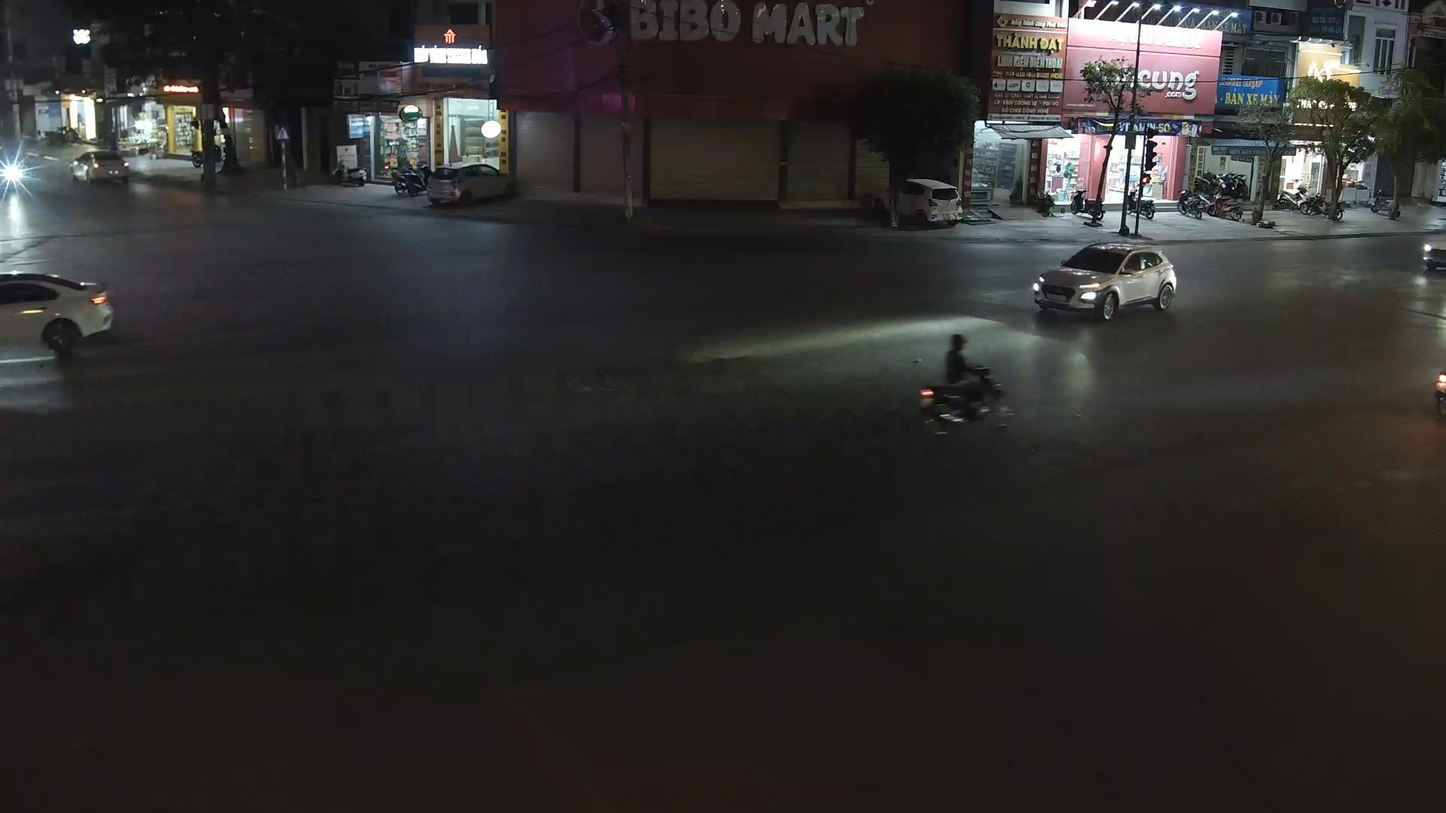car: (1031, 237, 1179, 321), (0, 265, 116, 358), (1420, 222, 1445, 275)
motorbike: (916, 330, 1015, 439)
